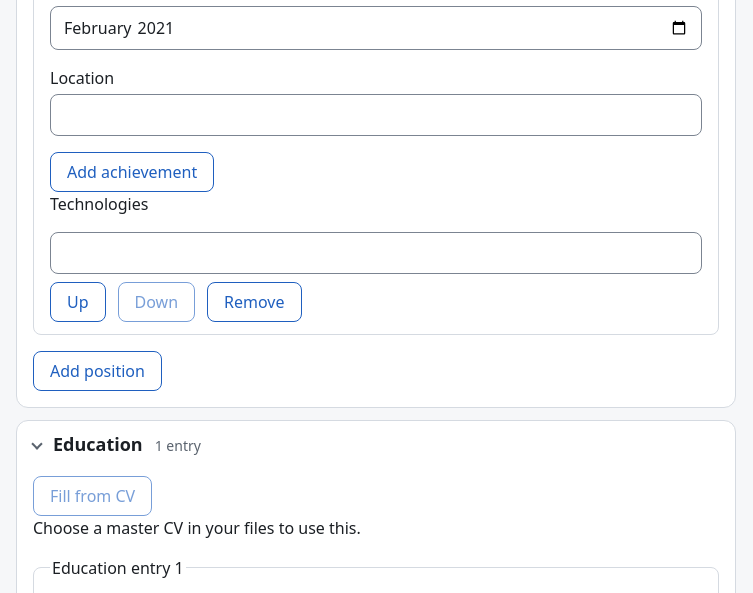
it: editing lists › reorders entries
(page scrolled)
Click the button with aria-label "Move Position 2 up" at (78, 302), box [50,282,106,322]
(page scrolled)
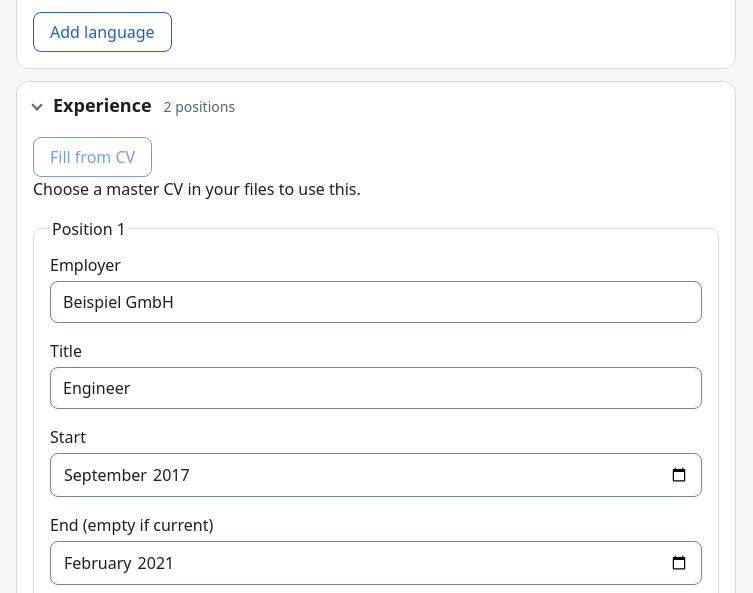
Check: the field labelled "Employer" holds "Beispiel GmbH", box [50,280,702,322]
